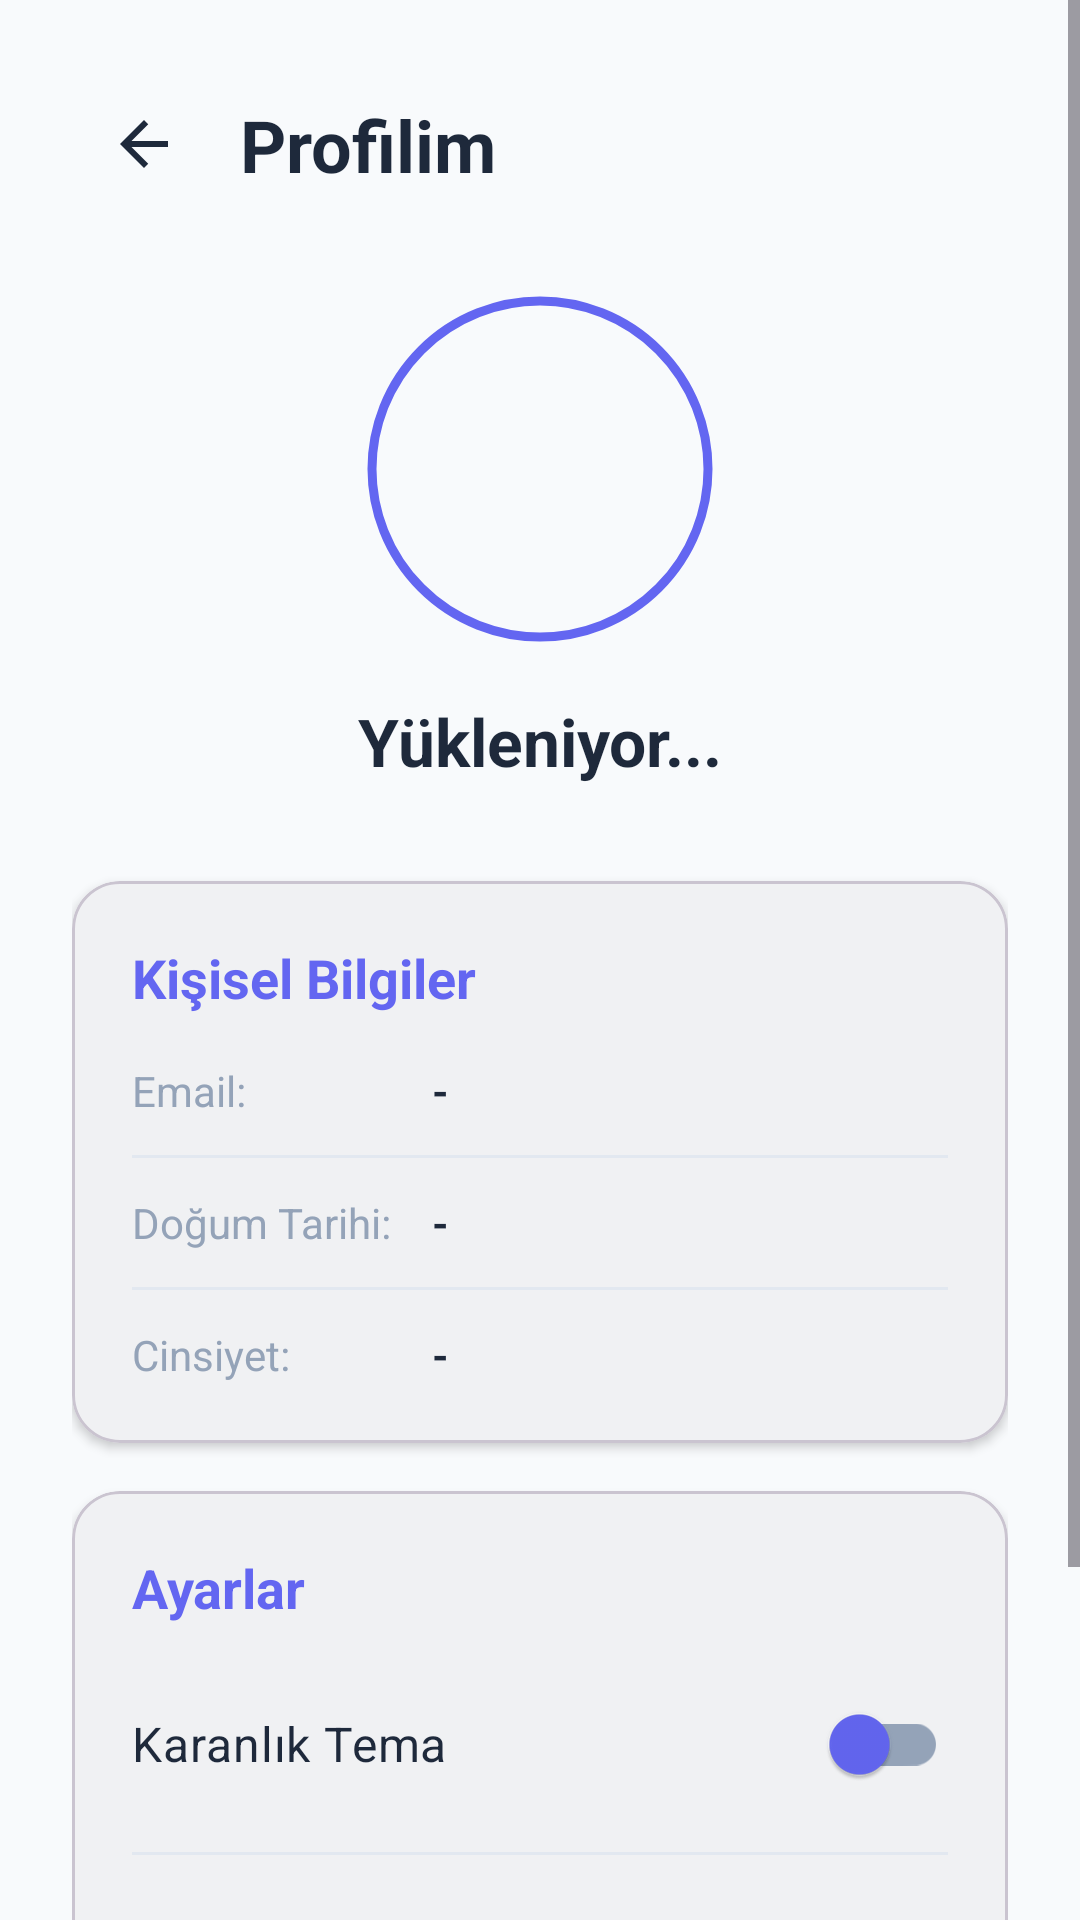

Named icons in this screenshot (1080x1920) and their bounding boxes, (x1, y1, x2, y2):
Geri: (120, 120, 168, 168)
